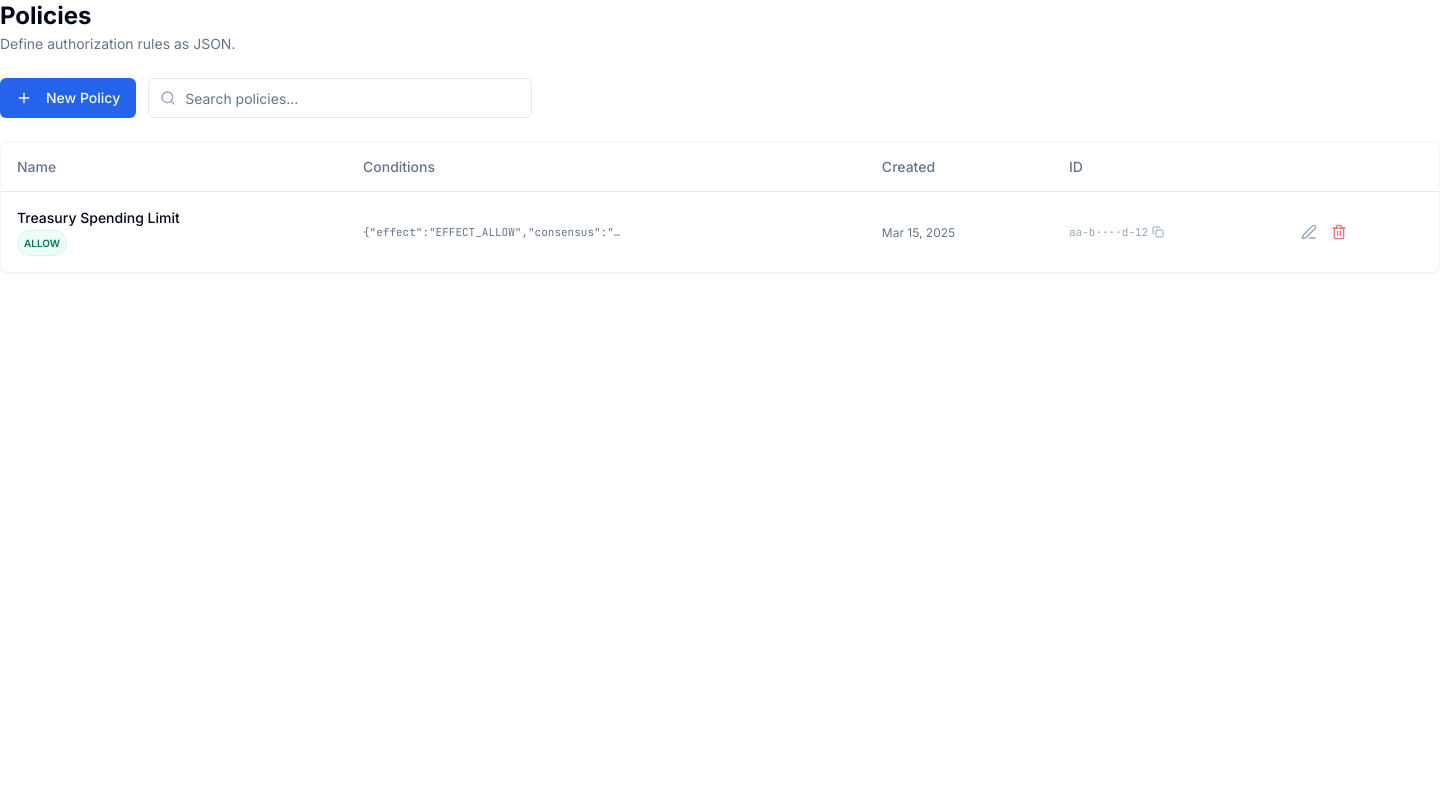
Test: Policies Page › CRUD operations › opens edit modal
Expected: the text "Treasury Spending Limit" is shown, [17, 208, 180, 226]
Click the 3rd button: (1309, 232) [1295, 218, 1323, 246]
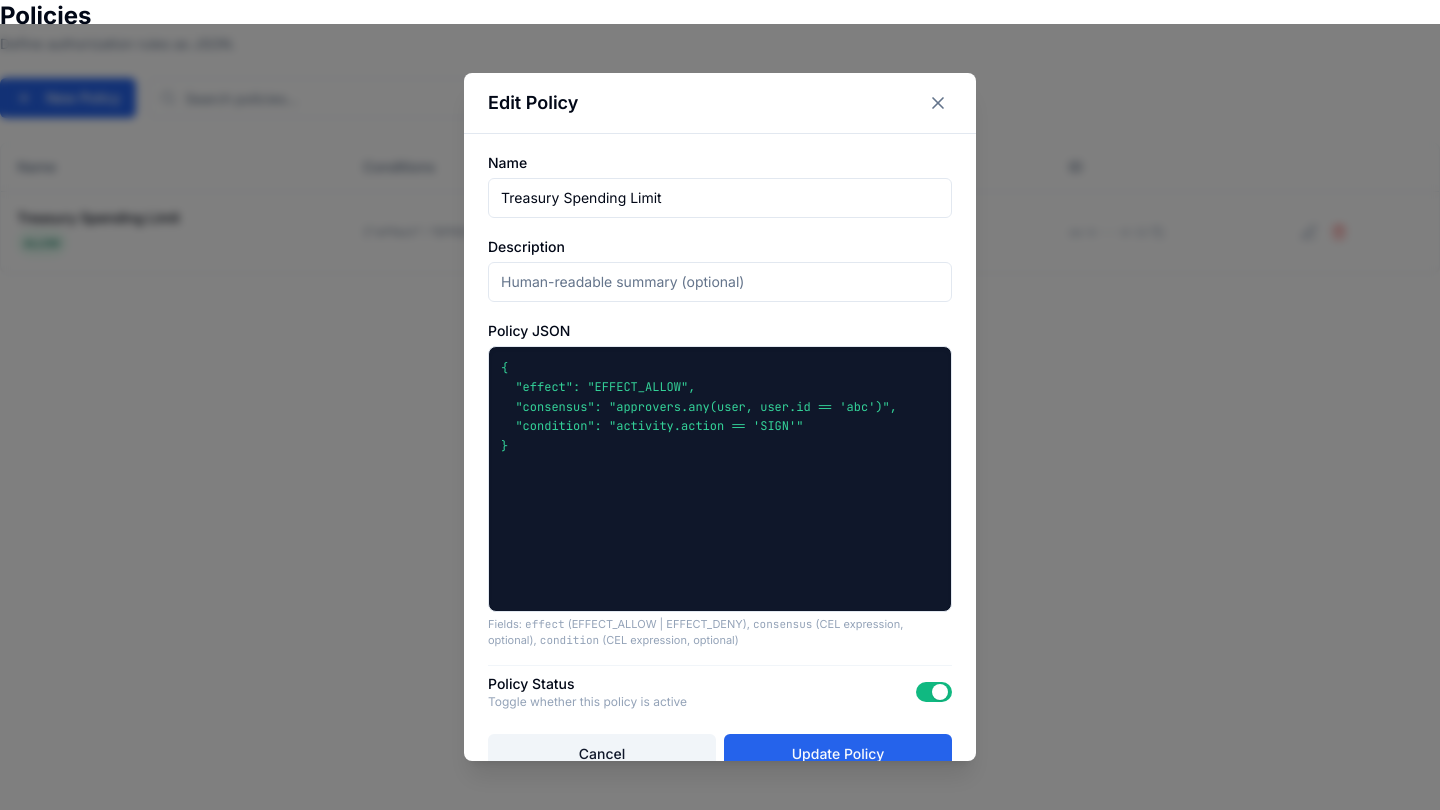
Result: the heading "Edit Policy" is shown at [488, 89, 578, 117]
Result: the field with placeholder "e.g. Treasury Spending Limit" holds "Treasury Spending Limit" at [488, 178, 952, 218]
